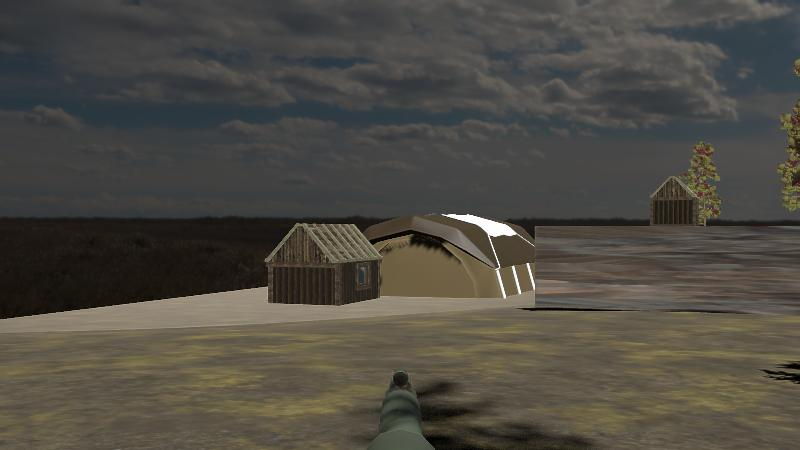House: (263, 221, 383, 307), (648, 174, 703, 229)
